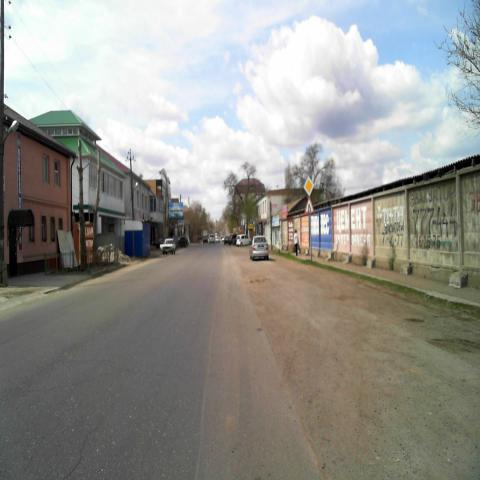1_20_2: (304, 197, 314, 215)
